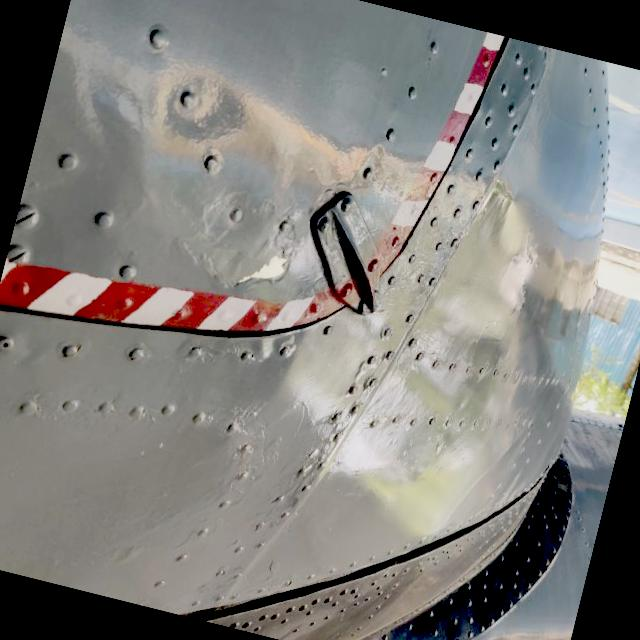paint-off: (220, 238, 298, 310)
